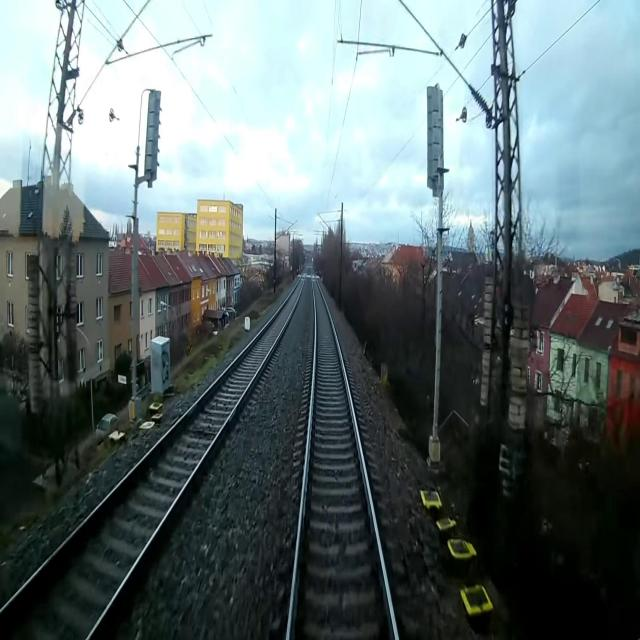rail-track: (0, 270, 306, 639), (291, 270, 395, 639)
